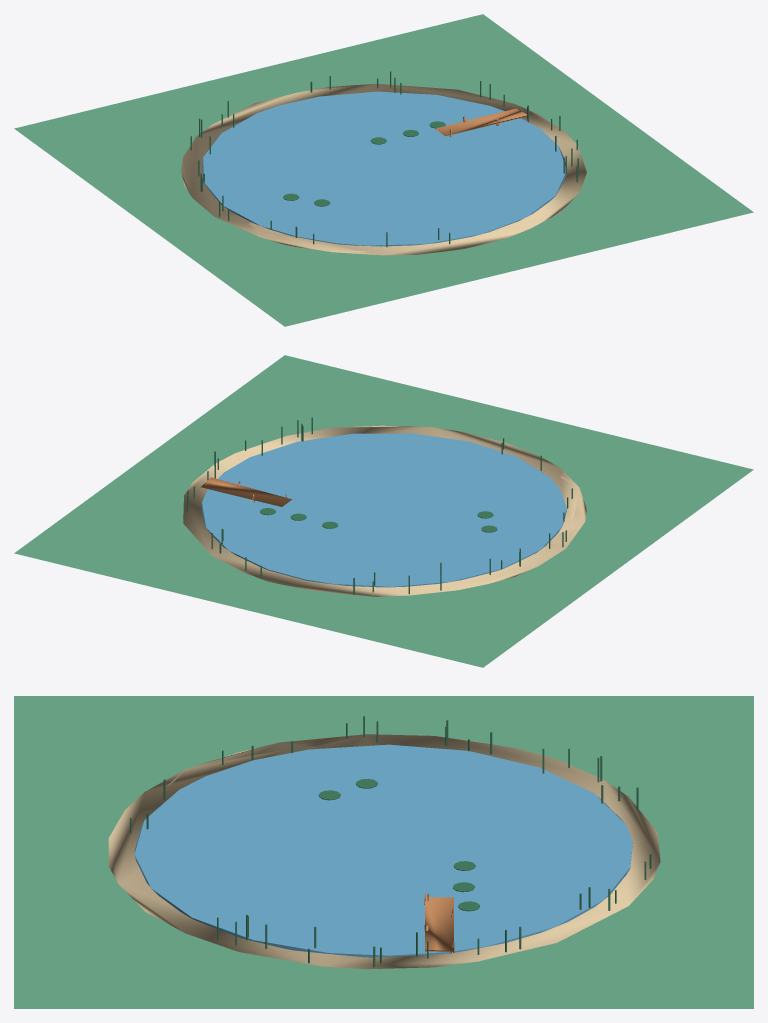
Rendered from land_lake.glb.
The picture shows the model from 3 angles, top to bottom: view 1: azimuth 30°, elevation 25°; view 2: azimuth 150°, elevation 25°; view 3: azimuth 270°, elevation 25°; orthographic projection. The views are drawn at different scales.
Parts seen in each view (by area): view 1: land_lake; view 2: land_lake; view 3: land_lake.
Boxes of the visible parts, bbox=[...] form: land_lake: bbox=[14, 14, 753, 326]; land_lake: bbox=[14, 355, 753, 667]; land_lake: bbox=[14, 696, 753, 1008].
Bounding box in the file's own units: 40 × 1.59 × 40.
Materials: 1 (1 with a texture image).
